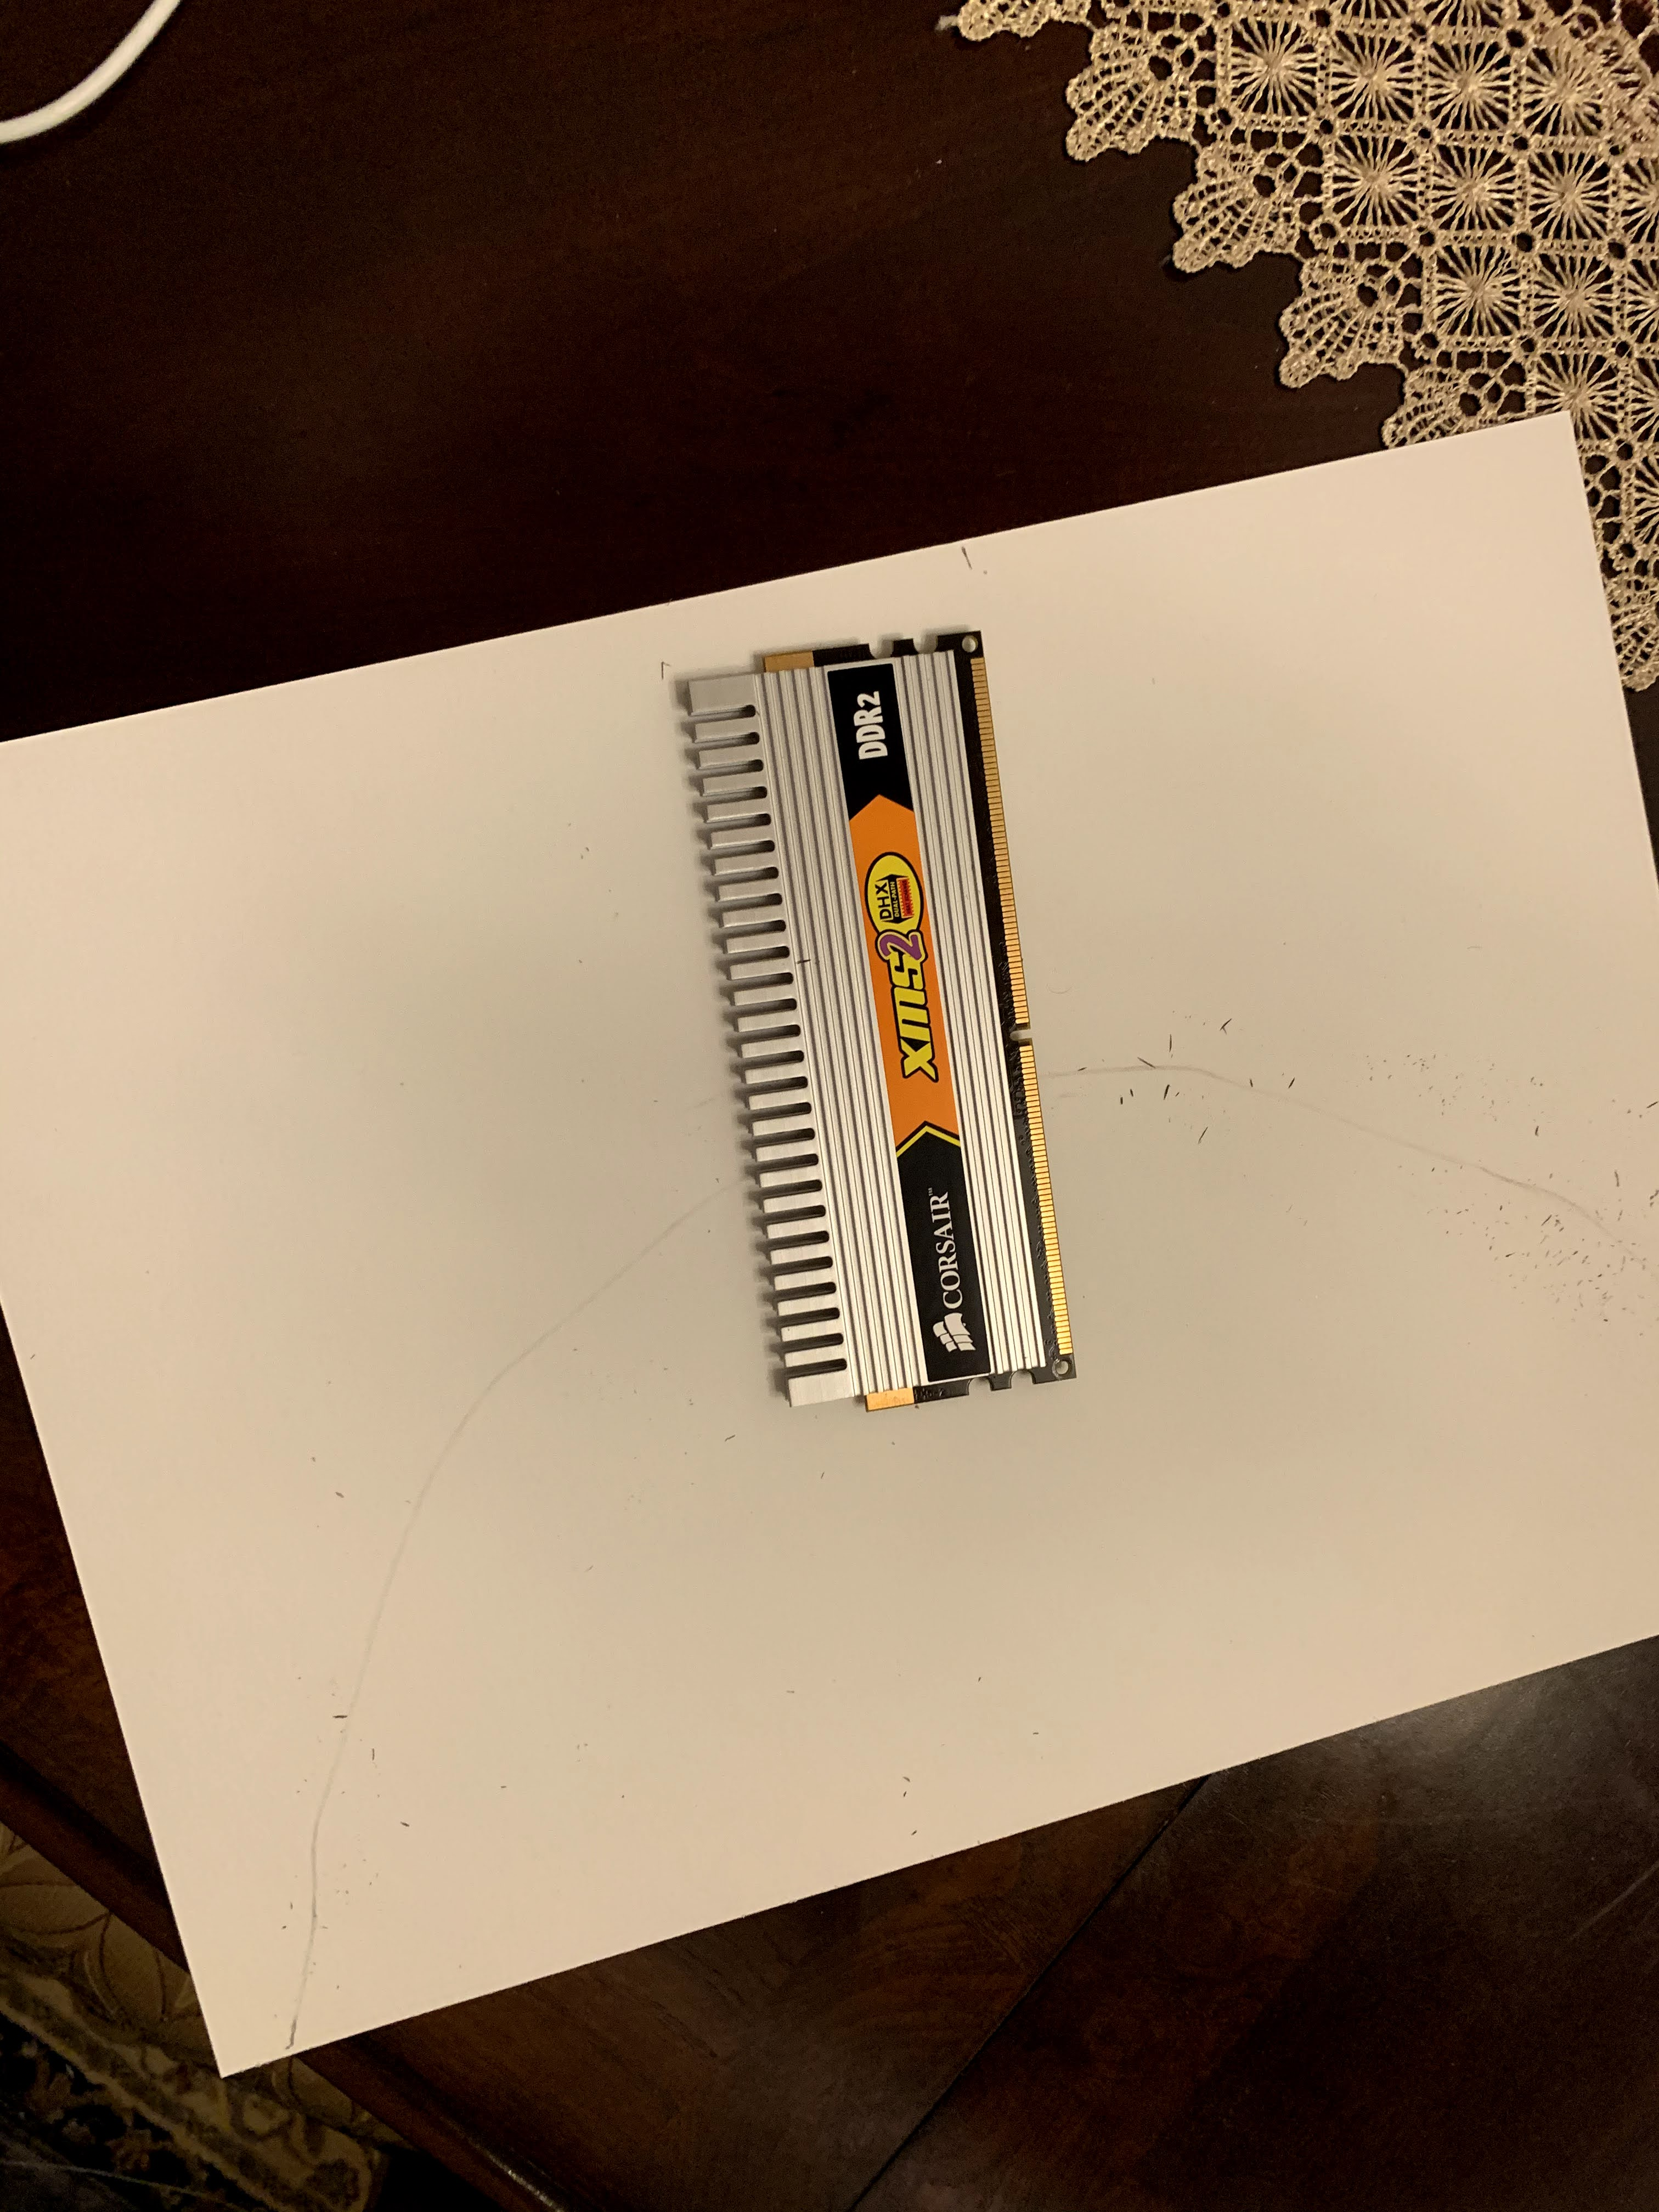Space-debris-medium: (648, 620, 1119, 1425)
